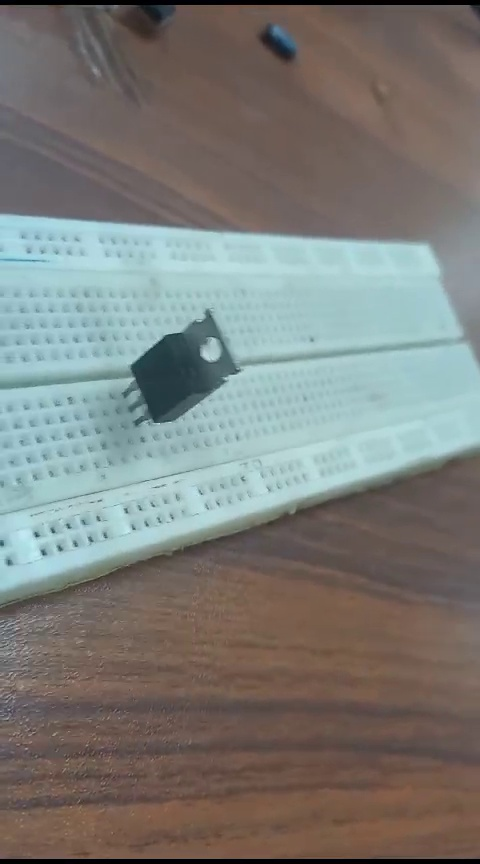voltage regulator: (115, 308, 259, 435)
